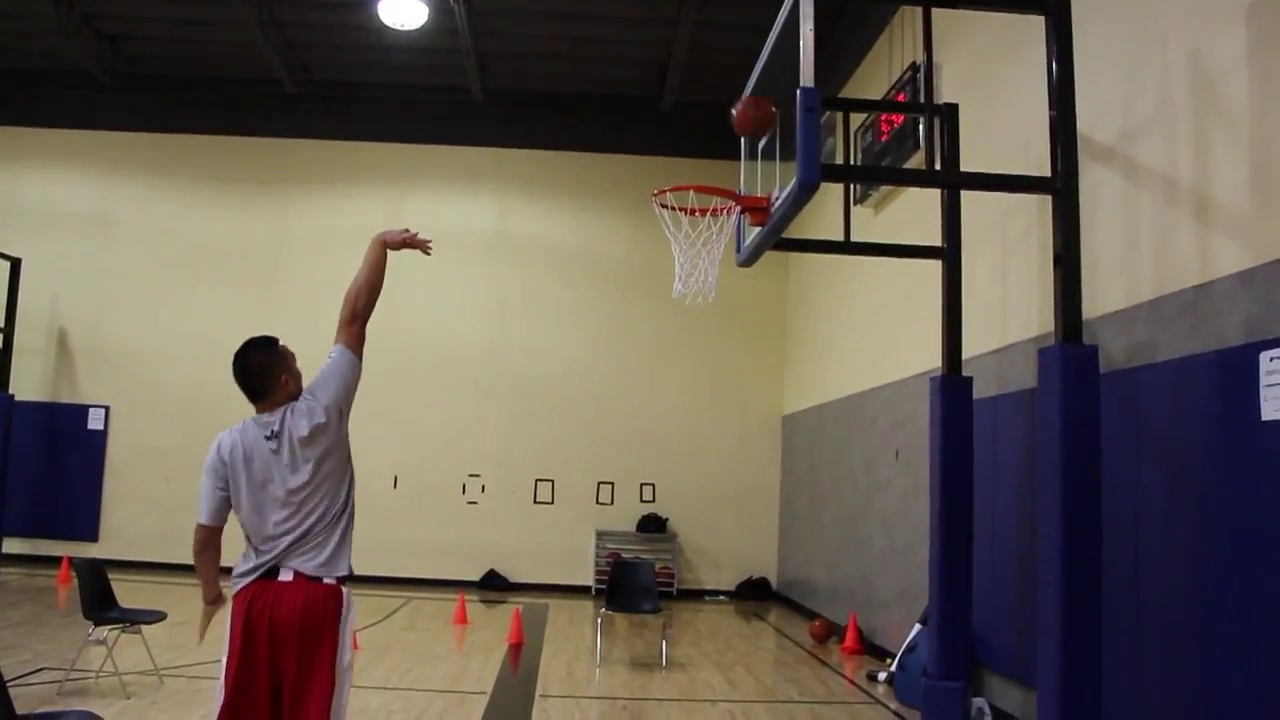person: (192, 228, 432, 720)
